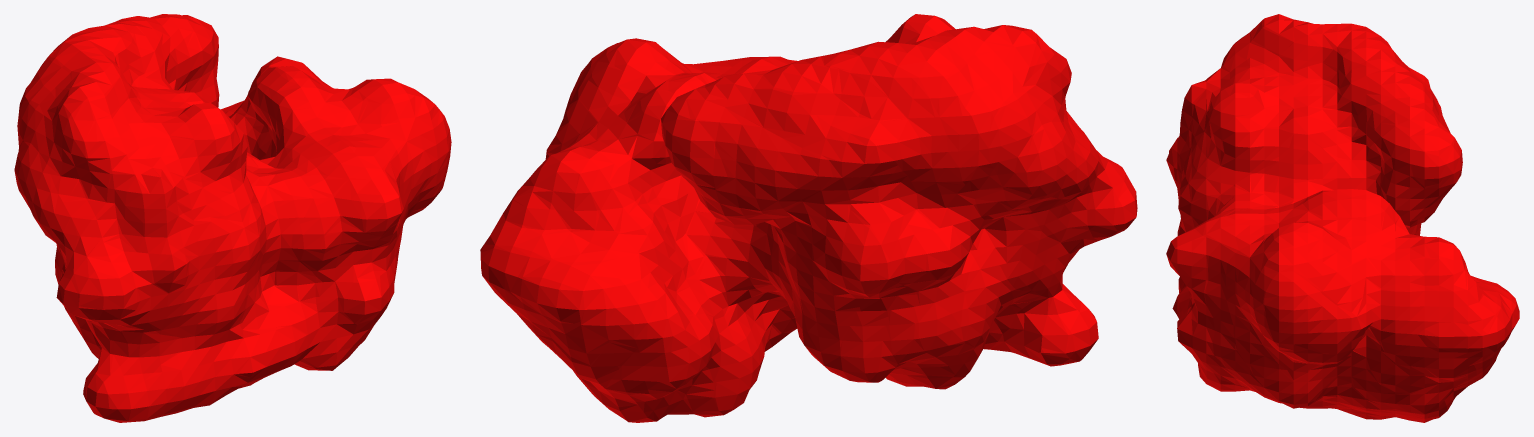
The model's file is Guanine_nucleotide_binding_pro_3_coarse.dae.
The picture shows the model from 3 angles, left to right: view 1: azimuth 30°, elevation 25°; view 2: azimuth 150°, elevation 25°; view 3: azimuth 270°, elevation 25°; orthographic projection. The views are drawn at different scales.
Parts seen in each view (by area): view 1: Guanine_nucleotide_binding_pro_3; view 2: Guanine_nucleotide_binding_pro_3; view 3: Guanine_nucleotide_binding_pro_3.
Part boxes in pixels (x1,y1,x2,y2): Guanine_nucleotide_binding_pro_3: [14, 14, 451, 422]; Guanine_nucleotide_binding_pro_3: [480, 14, 1137, 422]; Guanine_nucleotide_binding_pro_3: [1166, 14, 1519, 422].
Bounding box in the file's own units: 89.71 × 68.55 × 70.69.
